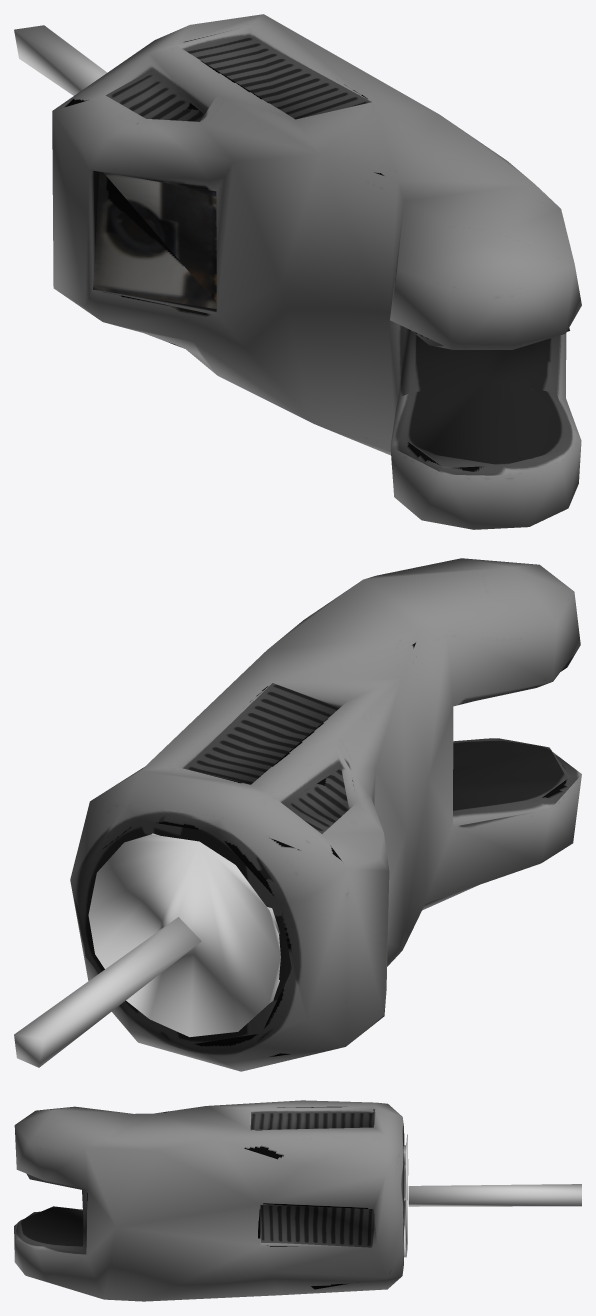
Rendered from l_forearm_roll_link.OBJ.
3 views of the same model, one above another, from view 1: azimuth 30°, elevation 25°; view 2: azimuth 150°, elevation 25°; view 3: azimuth 270°, elevation 25° (orthographic). The views are drawn at different scales.
Parts seen in each view (by area): view 1: /ambf/env/pr2/l_forearm_roll_link_/ambf/env/pr2/l_forearm_roll_l; view 2: /ambf/env/pr2/l_forearm_roll_link_/ambf/env/pr2/l_forearm_roll_l; view 3: /ambf/env/pr2/l_forearm_roll_link_/ambf/env/pr2/l_forearm_roll_l.
Boxes of the visible parts, x1,y1,x2,y2 form: /ambf/env/pr2/l_forearm_roll_link_/ambf/env/pr2/l_forearm_roll_l: (14, 14, 581, 529); /ambf/env/pr2/l_forearm_roll_link_/ambf/env/pr2/l_forearm_roll_l: (14, 558, 581, 1071); /ambf/env/pr2/l_forearm_roll_link_/ambf/env/pr2/l_forearm_roll_l: (14, 1100, 581, 1301).
Bounding box in the file's own units: 0.1198 × 0.1197 × 0.3814.
